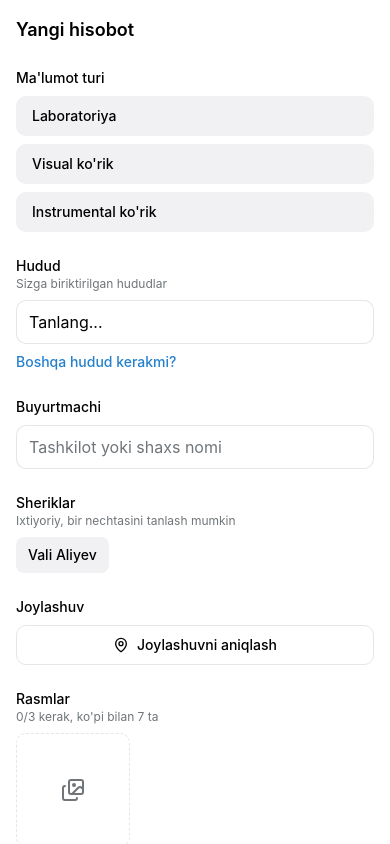
Test: joylashuv › ruxsat berilmasa bot orqali yuborish taklif qilinadi
This screenshot has width=390, height=844.
Click the button "Joylashuvni aniqlash": (195, 645) [16, 625, 374, 665]
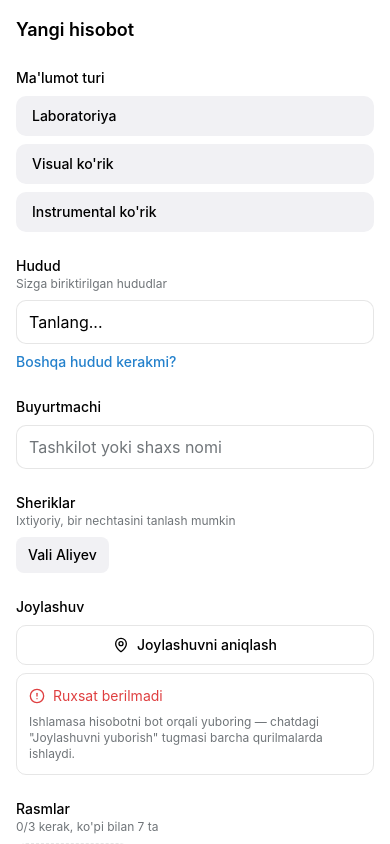
Expected: the text "Ruxsat berilmadi" is shown, [29, 687, 163, 704]
Expected: the text "hisobotni bot orqali yuboring" is shown, [29, 714, 323, 761]
